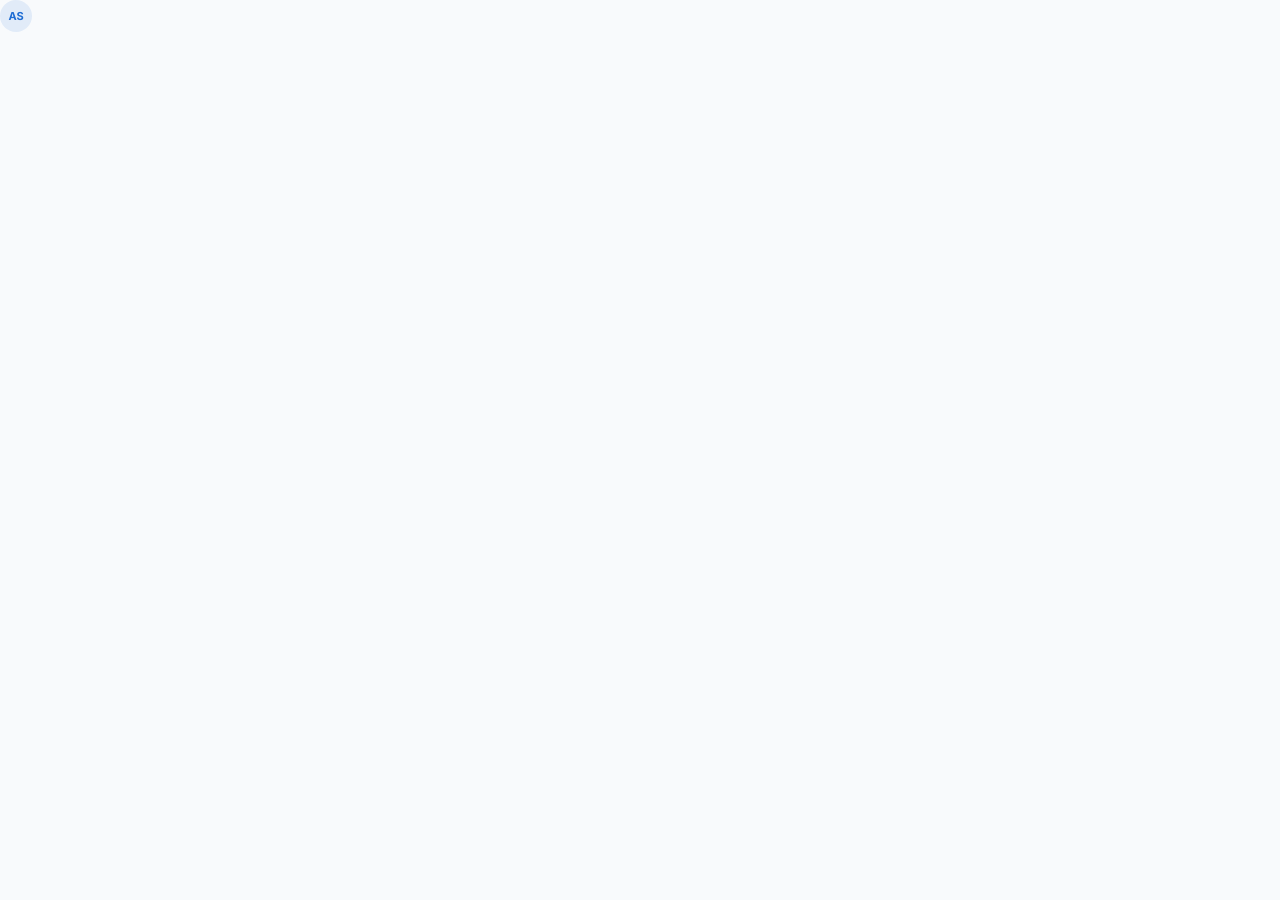
Test case: Menu do utilizador › administrador vê todas as concessões e VN/VU, mesmo sem locais guardados
Step 1. Click the button with aria-label "Menu do utilizador" → coordinates (16, 16), box [0,0,32,32]
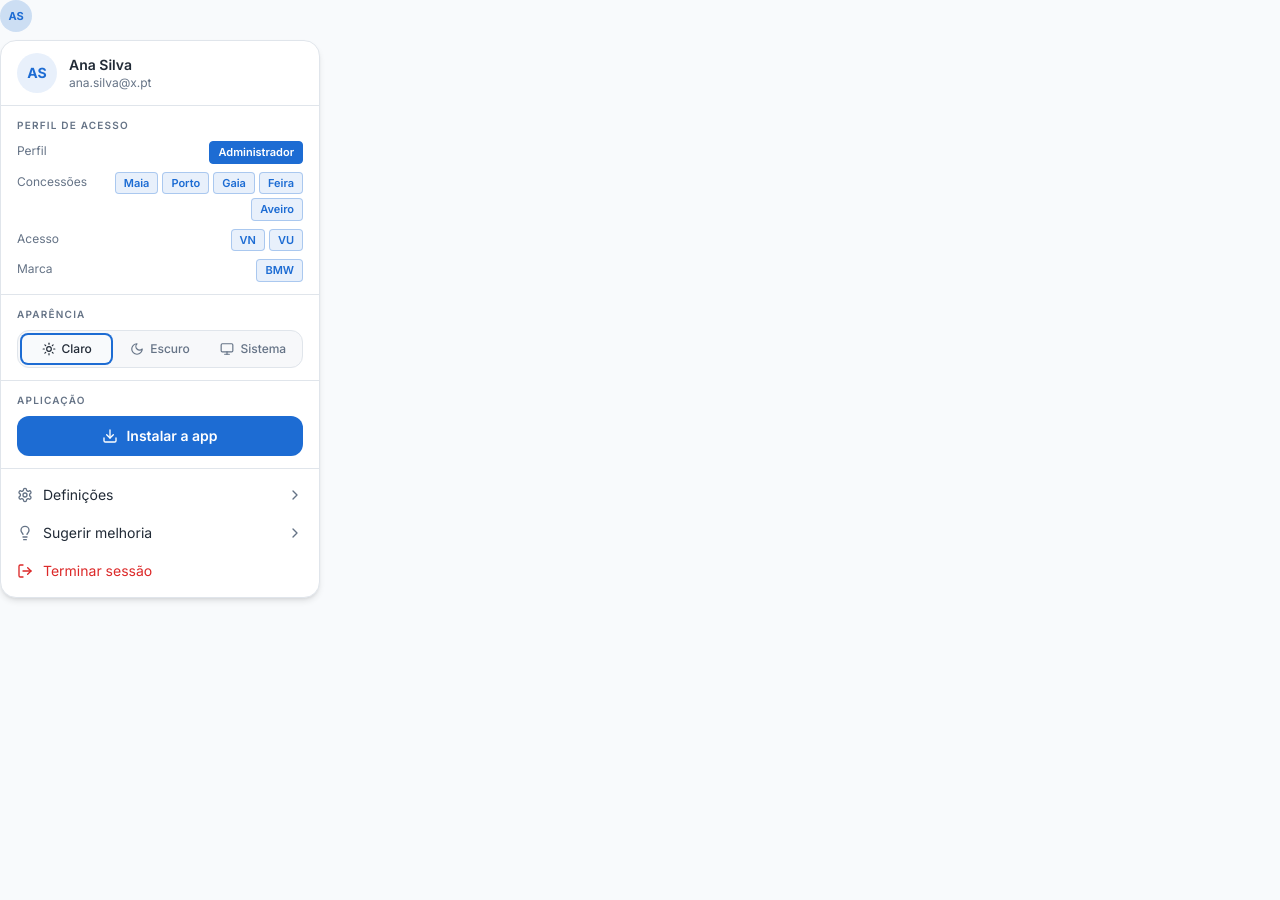
Result: the text "Administrador" is shown at [210,141,303,164]
Result: the text "VN" is shown at [230,228,265,251]
Result: the text "VU" is shown at [269,228,303,251]
